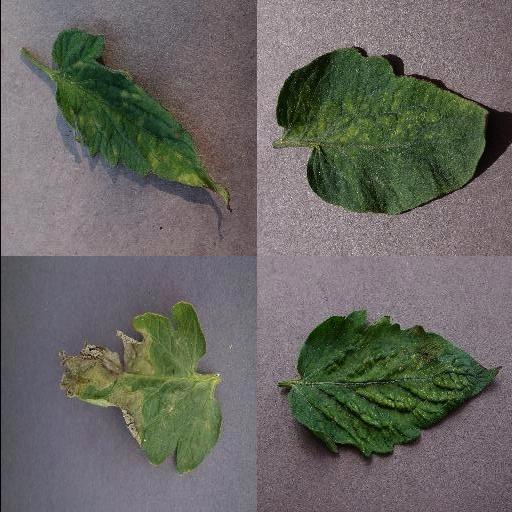Late Blight: (56, 303, 220, 477)
Leaf Mold: (49, 29, 233, 206)
Spider Mites: (274, 49, 490, 217), (290, 310, 502, 458)
